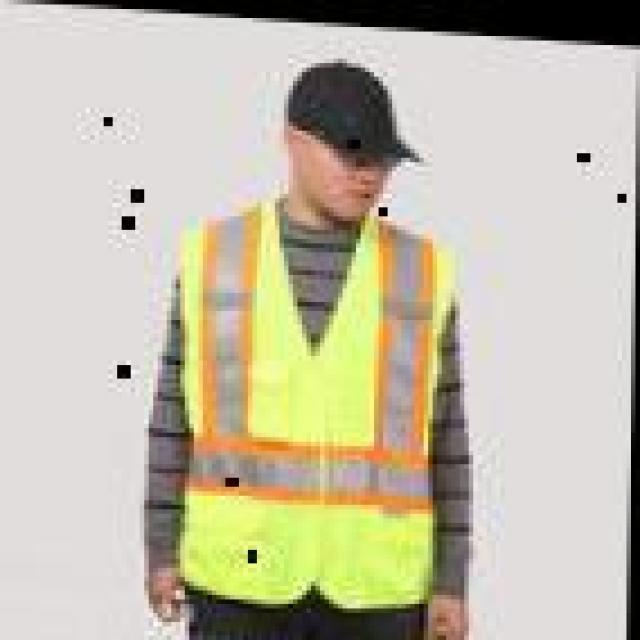safety_helmet: (186, 216, 464, 615)
